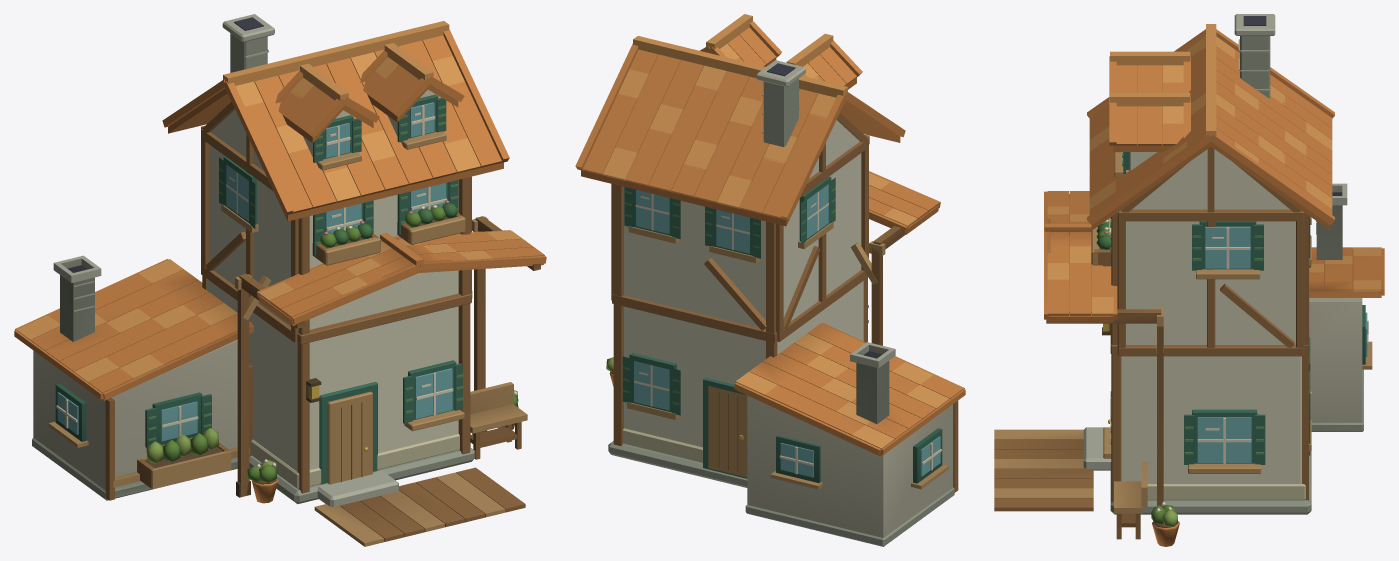
The model's file is master_farmhouse_a.glb.
3 renders of one model, left to right at view 1: azimuth 30°, elevation 25°; view 2: azimuth 150°, elevation 25°; view 3: azimuth 270°, elevation 25°, orthographic. The views are drawn at different scales.
Parts seen in each view (by area): view 1: master_farmhouse_a; view 2: master_farmhouse_a; view 3: master_farmhouse_a.
Part boxes in pixels (x1,y1,x2,y2): master_farmhouse_a: (14,14,546,546); master_farmhouse_a: (575,14,965,546); master_farmhouse_a: (994,14,1384,546).
Size of the model in its own units: 4.06 by 4.11 by 3.46.
